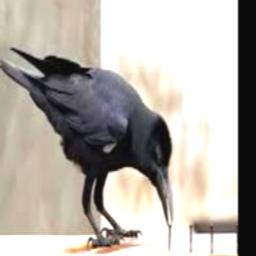Crow: (0, 45, 173, 249)
